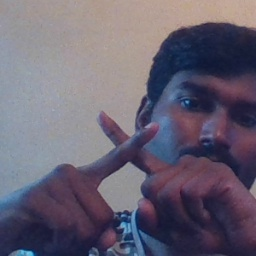X: (66, 105, 200, 232)
